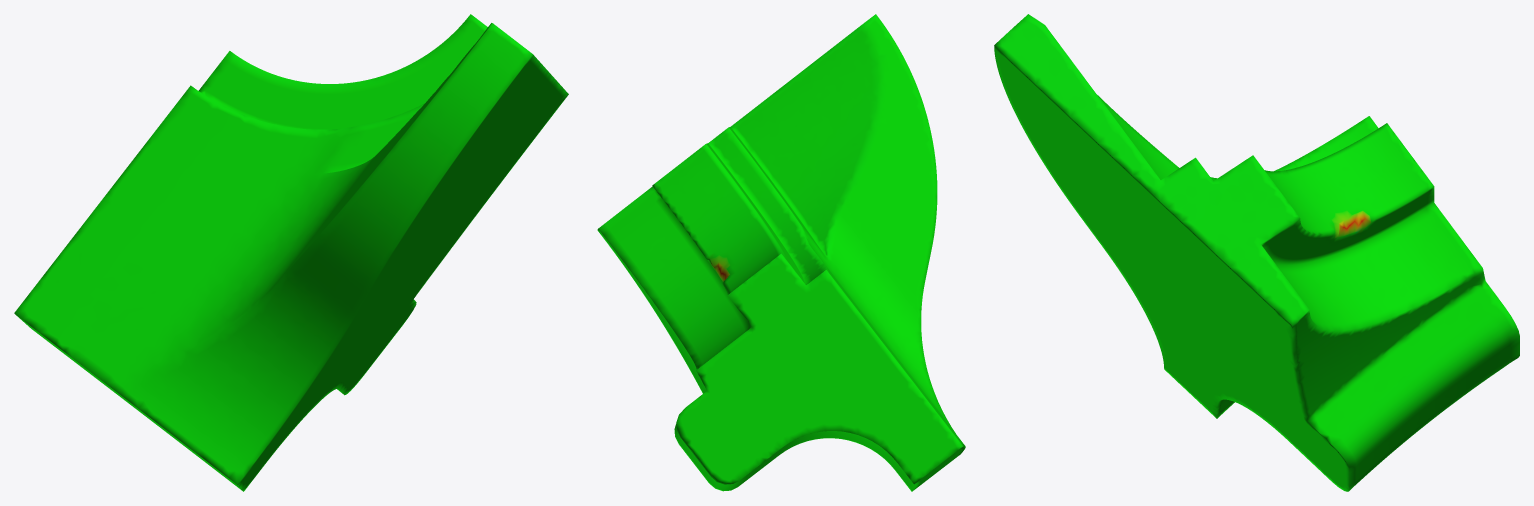
Rendered from all=0.000028-hole=0.004944-context.obj.
3 views of the same model, side by side, from view 1: azimuth 30°, elevation 25°; view 2: azimuth 150°, elevation 25°; view 3: azimuth 270°, elevation 25° (orthographic). The views are drawn at different scales.
Bounding box in the file's own units: 83.99 × 79.21 × 79.93.
